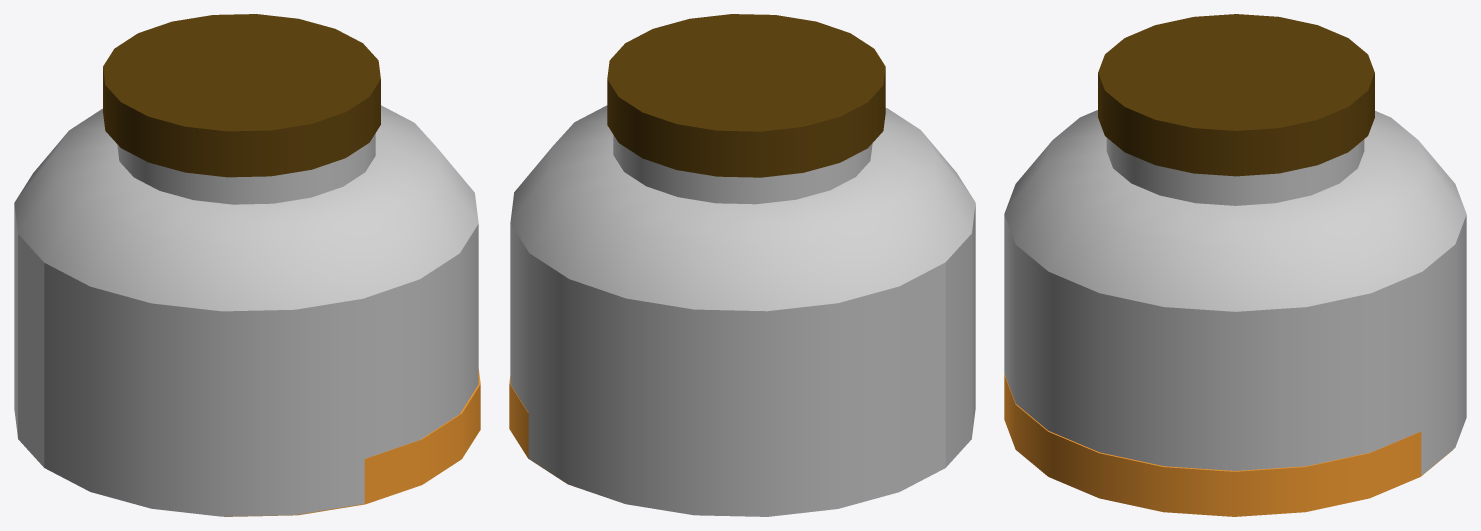
Rendered from Potion 6.fbx.
The picture shows the model from 3 angles, left to right: view 1: azimuth 30°, elevation 25°; view 2: azimuth 150°, elevation 25°; view 3: azimuth 270°, elevation 25°; orthographic projection.
Visible parts, largest first — view 1: pCylinder236, pasted__pasted__pCylinder234, pasted__pCylinder239; view 2: pCylinder236, pasted__pasted__pCylinder234, pasted__pCylinder239; view 3: pCylinder236, pasted__pasted__pCylinder234, pasted__pCylinder239.
Part boxes in pixels (x1,y1,x2,y2): pCylinder236: (14,105,478,516); pasted__pasted__pCylinder234: (103,14,380,177); pasted__pCylinder239: (224,369,480,516); pCylinder236: (510,105,975,516); pasted__pasted__pCylinder234: (607,14,885,177); pasted__pCylinder239: (509,376,568,484); pCylinder236: (1004,110,1466,475); pasted__pasted__pCylinder234: (1098,14,1374,176); pasted__pCylinder239: (1004,374,1452,516).
Size of the model in its own units: 0.0715 by 0.0585 by 0.0712.
Materials: 2 (2 with a texture image).
